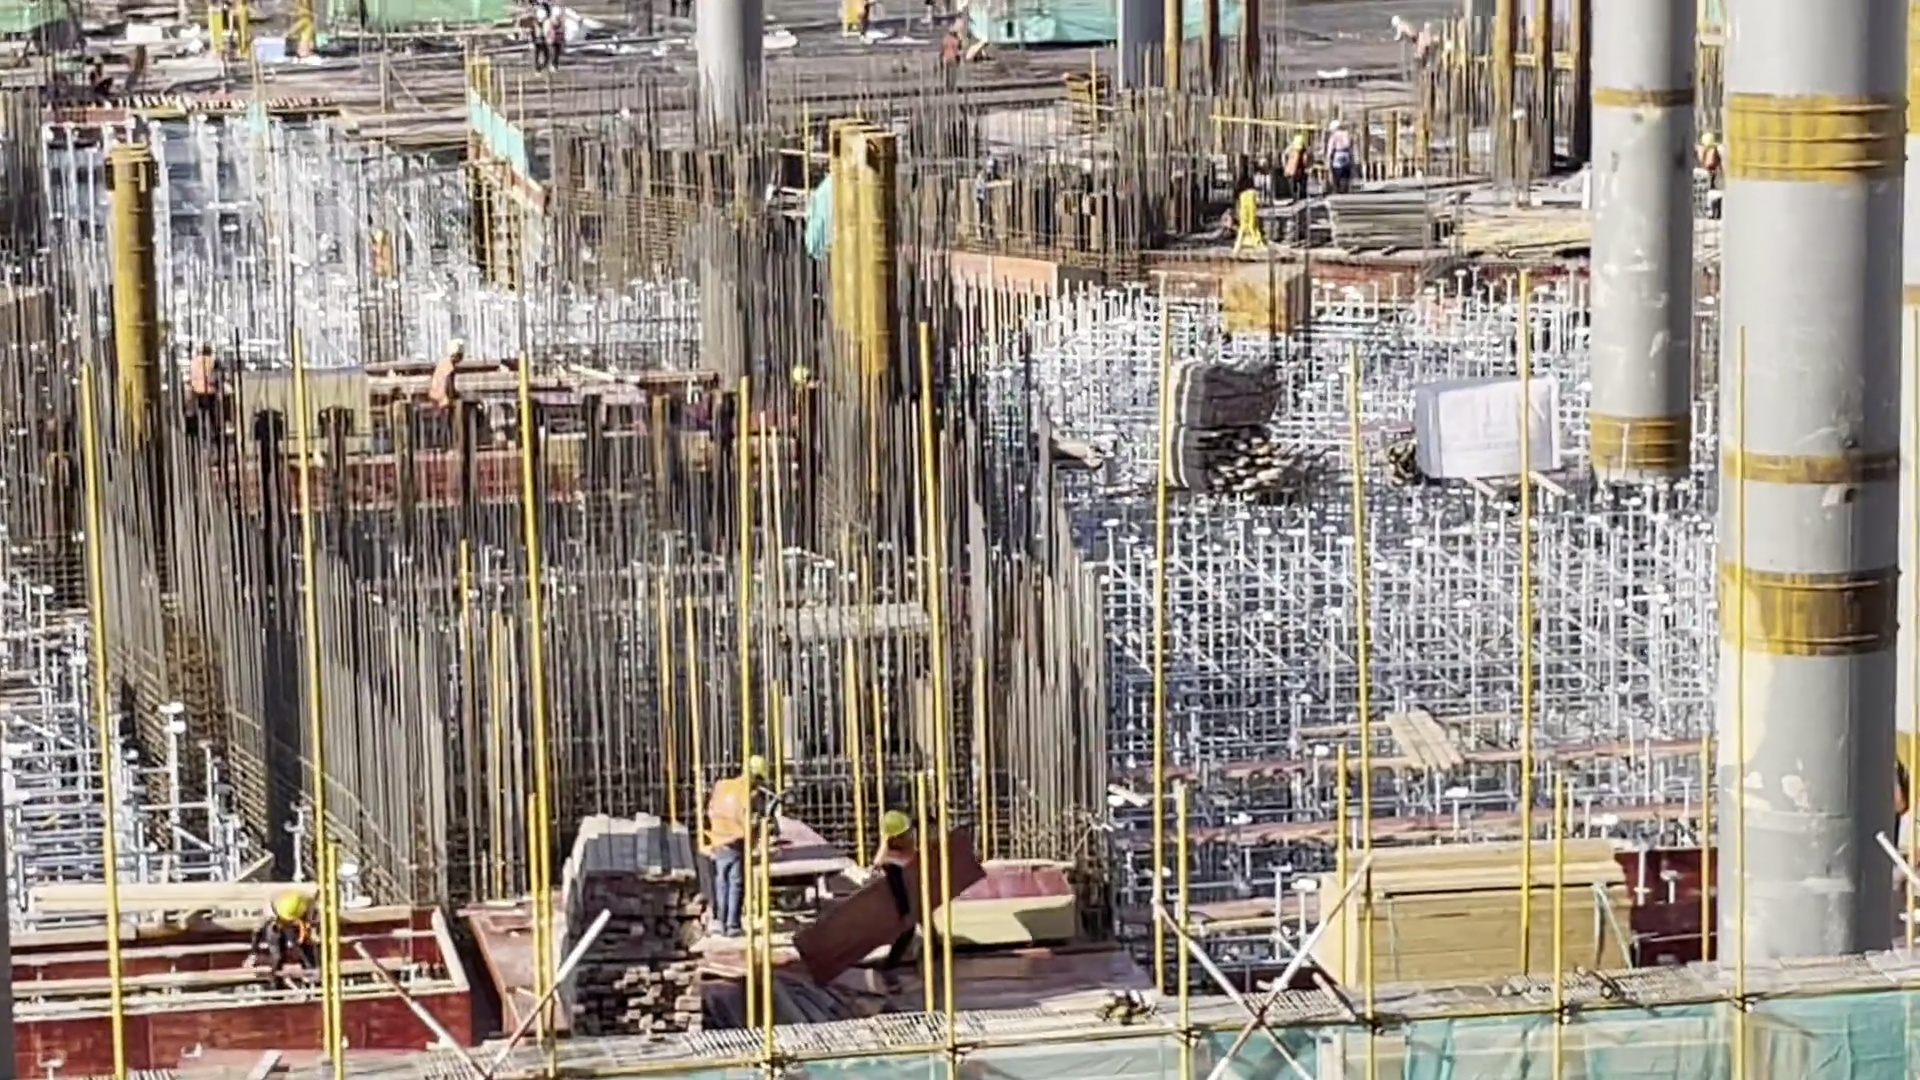helmet: (279, 891, 305, 920), (746, 757, 770, 783), (877, 815, 904, 837), (793, 364, 809, 382), (447, 343, 466, 358), (193, 341, 214, 351), (1294, 134, 1307, 146), (1329, 119, 1343, 130), (551, 8, 565, 19), (984, 158, 997, 168), (534, 10, 548, 17)
person: (708, 754, 783, 944), (247, 887, 341, 984), (874, 810, 924, 990), (172, 333, 232, 429), (1322, 119, 1368, 197), (427, 339, 466, 425), (1278, 135, 1317, 202), (974, 155, 999, 229), (938, 28, 960, 86), (545, 11, 565, 72), (528, 13, 549, 69)
vest: (703, 783, 758, 856), (188, 358, 218, 398), (872, 846, 912, 869), (432, 363, 455, 400), (1330, 132, 1354, 162), (1285, 147, 1307, 176), (977, 173, 993, 203), (942, 36, 959, 60), (532, 23, 548, 46), (548, 29, 567, 50)
